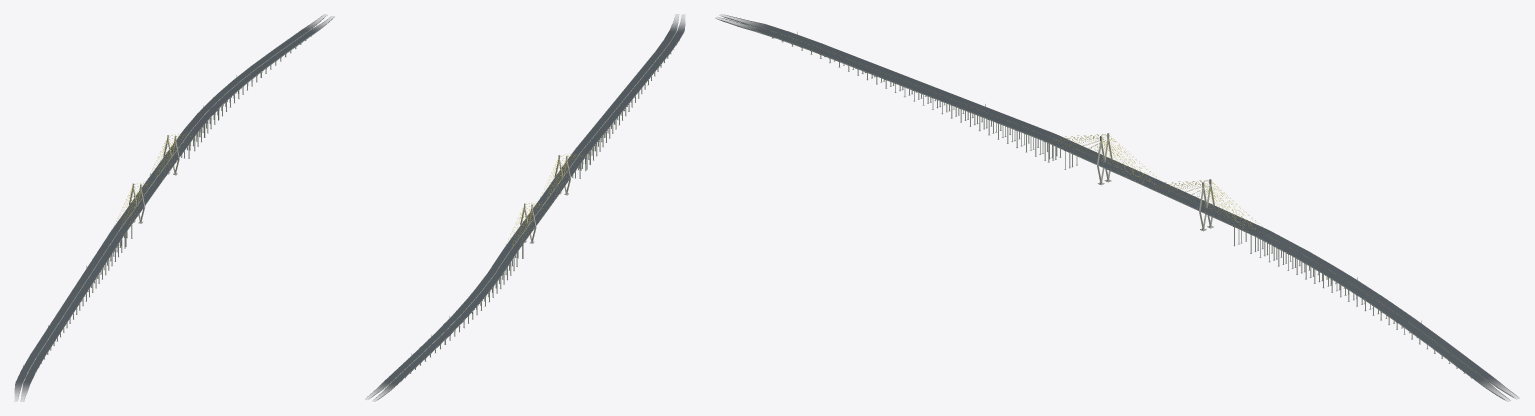
Rendered from fred-hartman-bridge-far.glb.
The picture shows the model from 3 angles, left to right: view 1: azimuth 30°, elevation 25°; view 2: azimuth 210°, elevation 25°; view 3: azimuth 270°, elevation 25°; orthographic projection. The views are drawn at different scales.
Visible parts, largest first — view 1: fred-hartman-bridge-0-asphalt, fred-hartman-bridge-0-concrete, fred-hartman-bridge-0-tower, fred-hartman-bridge-0-cable; view 2: fred-hartman-bridge-0-asphalt, fred-hartman-bridge-0-concrete, fred-hartman-bridge-0-tower, fred-hartman-bridge-0-cable; view 3: fred-hartman-bridge-0-asphalt, fred-hartman-bridge-0-concrete, fred-hartman-bridge-0-cable, fred-hartman-bridge-0-steel.
Part boxes in pixels (<box>): fred-hartman-bridge-0-asphalt: <box>14,14,334,401</box>; fred-hartman-bridge-0-concrete: <box>14,14,334,401</box>; fred-hartman-bridge-0-tower: <box>129,135,179,222</box>; fred-hartman-bridge-0-cable: <box>114,134,195,227</box>; fred-hartman-bridge-0-asphalt: <box>365,14,685,401</box>; fred-hartman-bridge-0-concrete: <box>365,14,685,401</box>; fred-hartman-bridge-0-tower: <box>520,155,570,242</box>; fred-hartman-bridge-0-cable: <box>506,154,586,246</box>; fred-hartman-bridge-0-asphalt: <box>715,14,1519,401</box>; fred-hartman-bridge-0-concrete: <box>715,14,1518,401</box>; fred-hartman-bridge-0-cable: <box>1048,134,1262,231</box>; fred-hartman-bridge-0-steel: <box>719,17,1513,399</box>.
Bounding box in the file's own units: 2341 × 136 × 2056.
